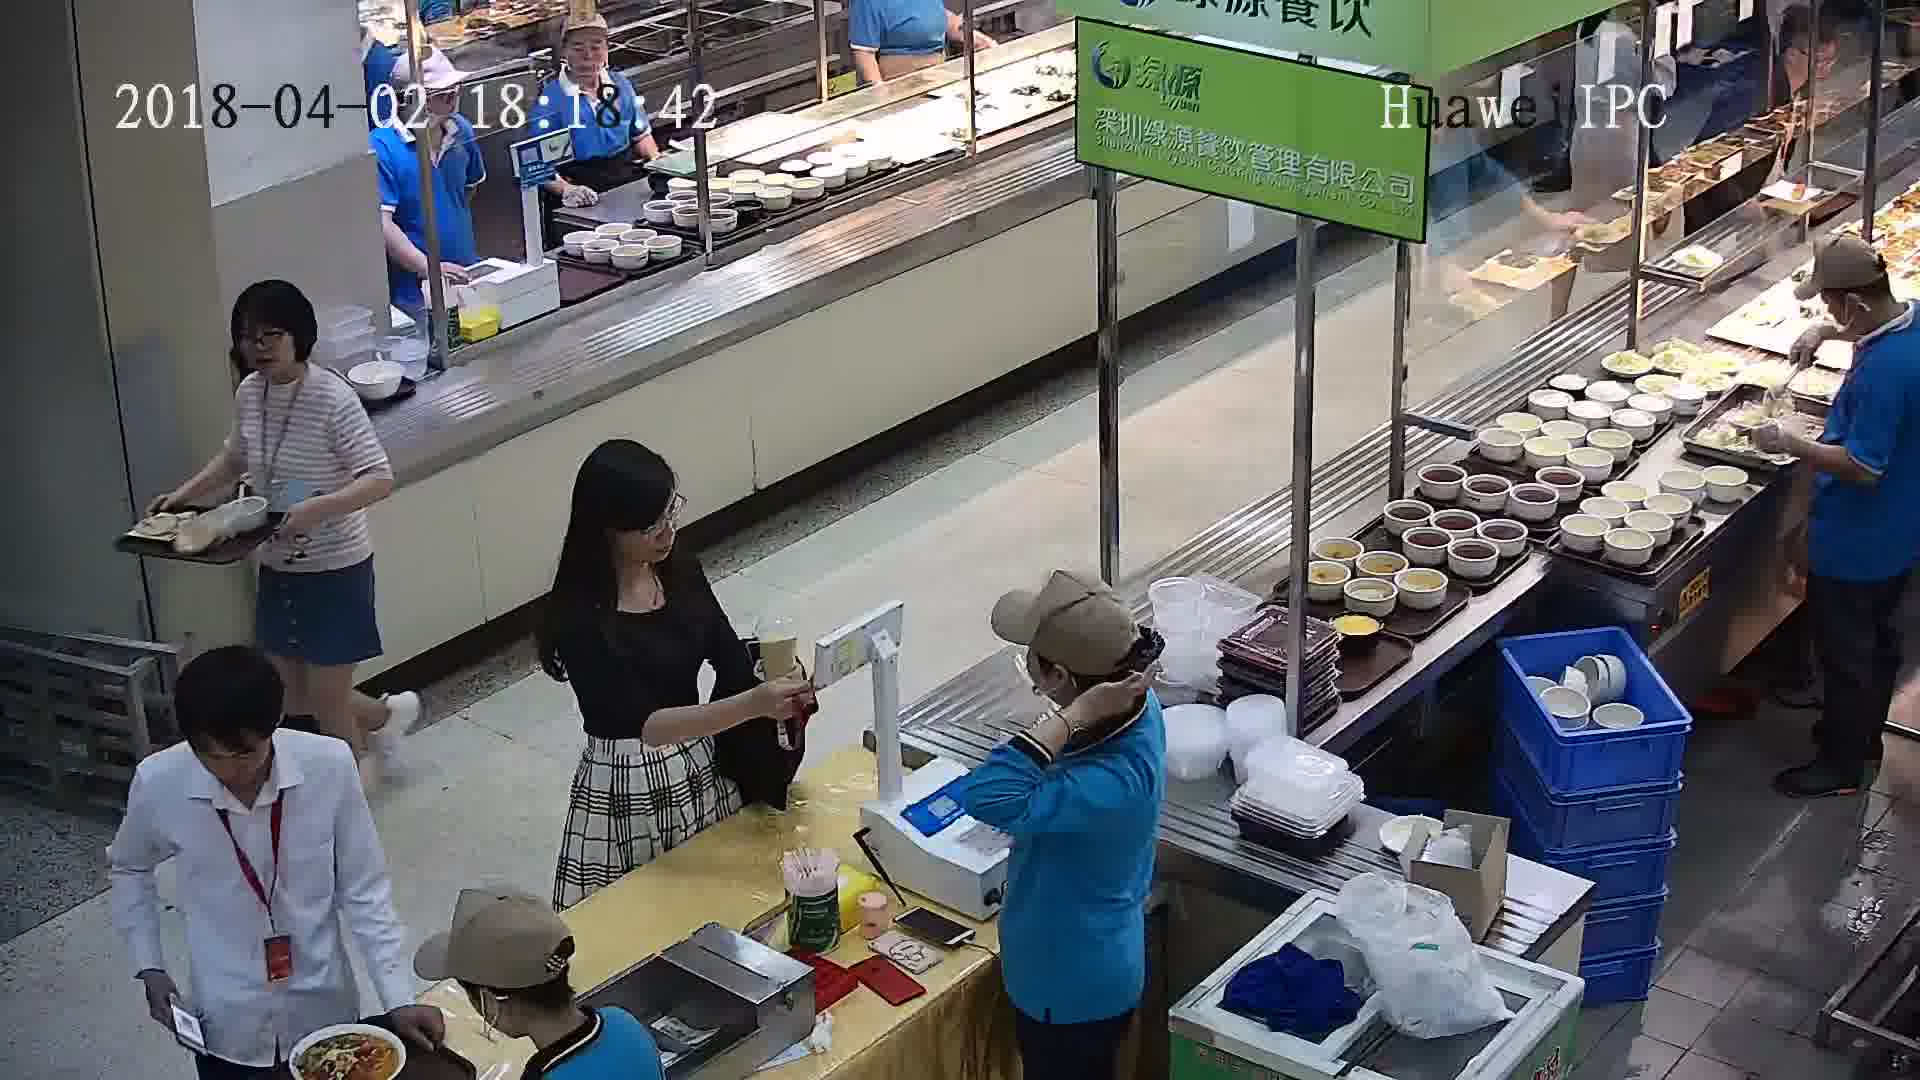face: (609, 486, 687, 564), (203, 720, 266, 784), (238, 319, 296, 377), (562, 27, 613, 79)
person: (126, 638, 360, 838), (440, 883, 663, 1079), (1006, 571, 1182, 816), (541, 436, 727, 659), (217, 276, 358, 431), (1802, 239, 1919, 398), (358, 49, 484, 163), (541, 17, 641, 113), (413, 65, 481, 161)
